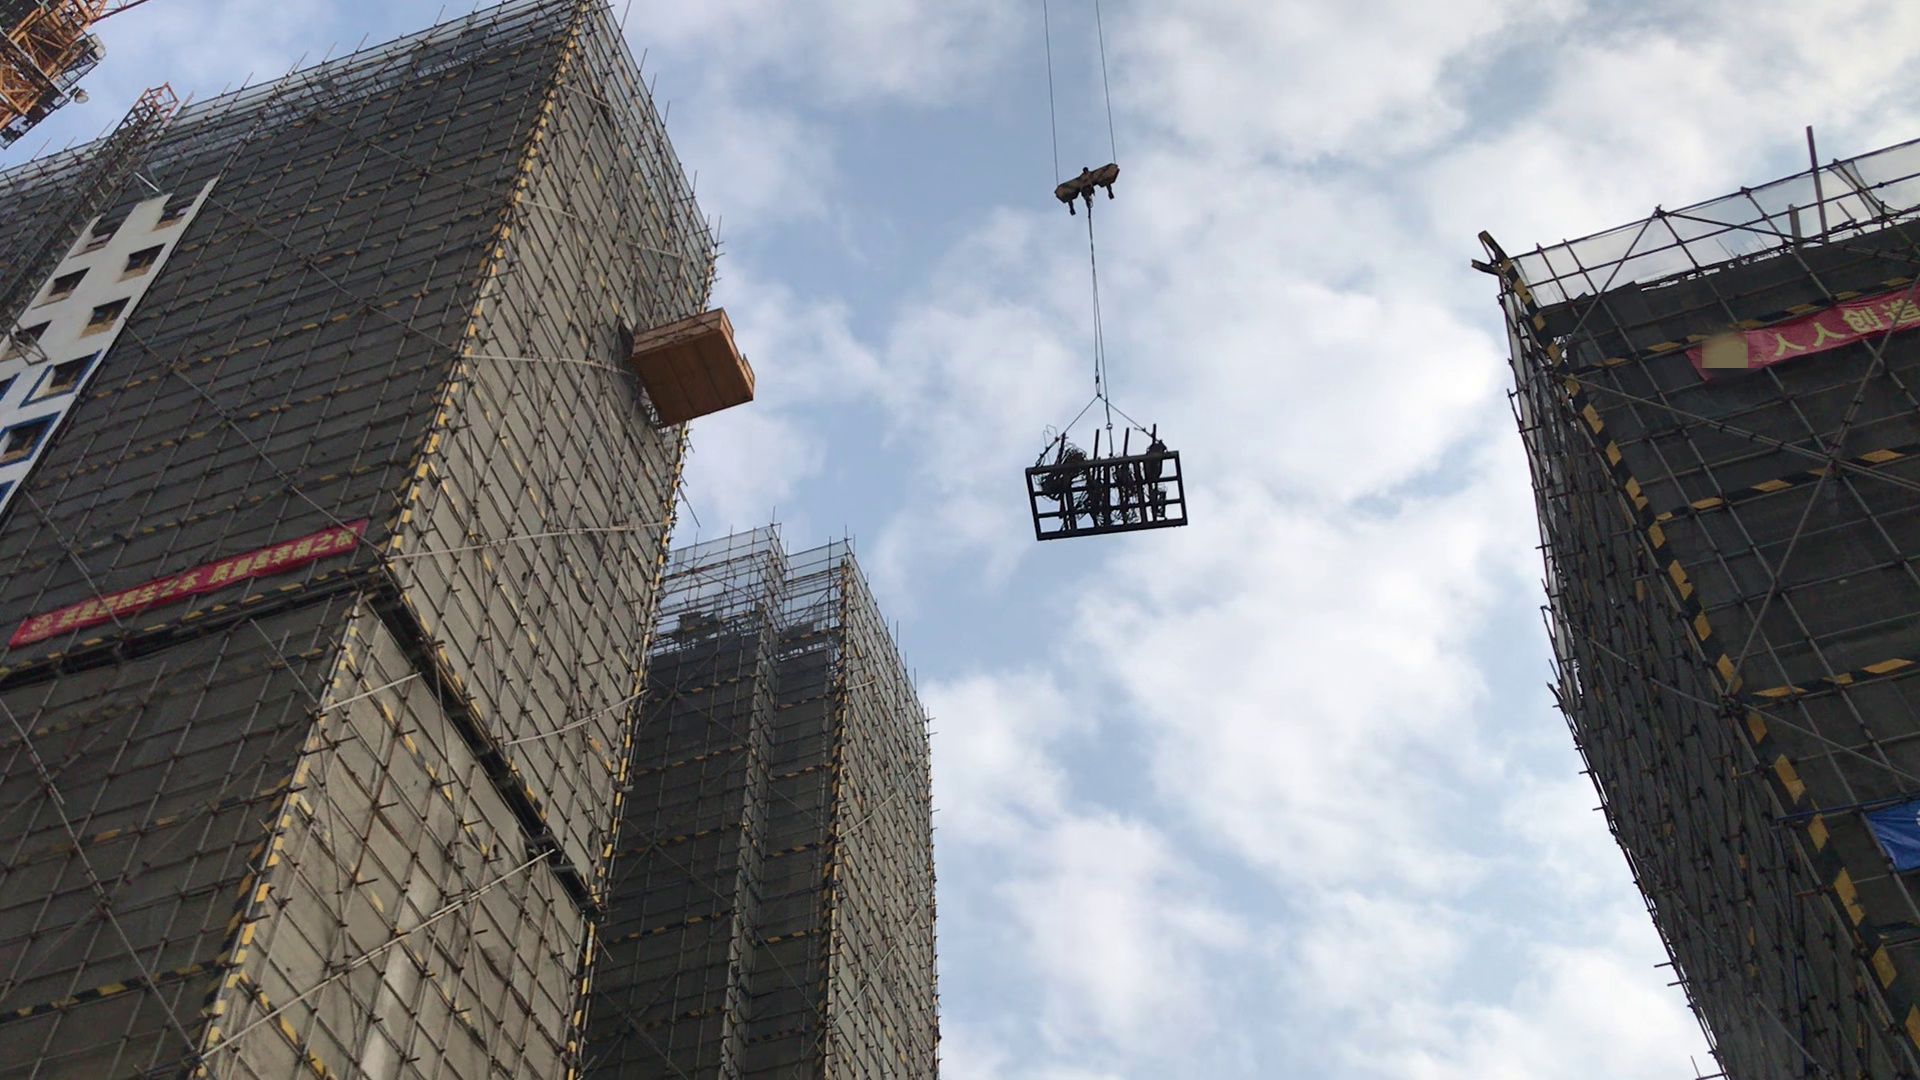hook: (1046, 150, 1141, 216)
slogan: (3, 534, 381, 645), (1702, 265, 1920, 367)
